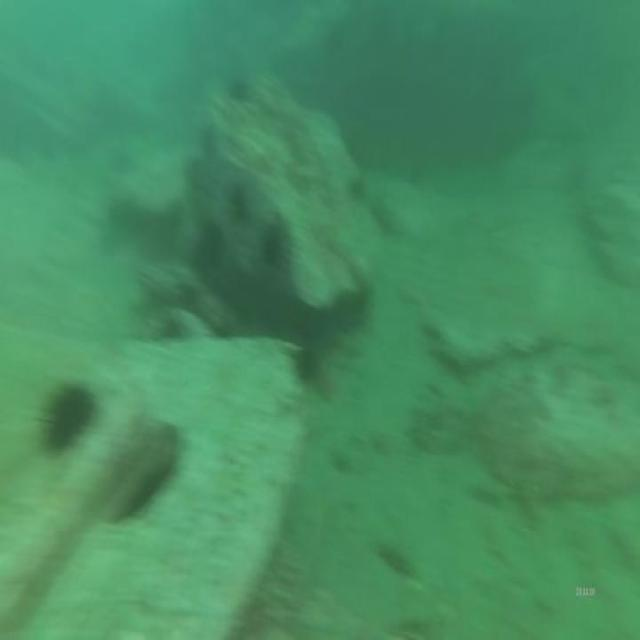echinus: (36, 368, 98, 462), (196, 212, 225, 275), (298, 334, 322, 387), (264, 216, 284, 272), (228, 182, 250, 232)
